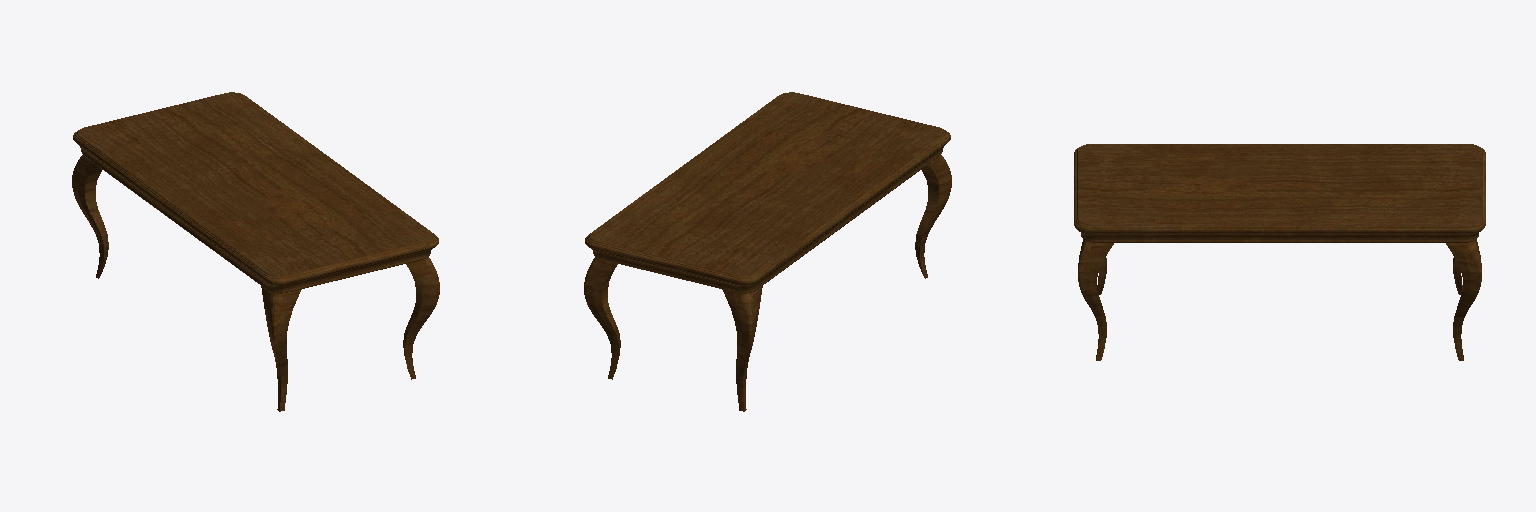
3 renders of one model, left to right at view 1: azimuth 30°, elevation 25°; view 2: azimuth 150°, elevation 25°; view 3: azimuth 270°, elevation 25°, orthographic.
Visible parts, largest first — view 1: Vintage_Furniture_Coffee_Table_OBJ:Vintage_Furniture_Coffee_Tabl; view 2: Vintage_Furniture_Coffee_Table_OBJ:Vintage_Furniture_Coffee_Tabl; view 3: Vintage_Furniture_Coffee_Table_OBJ:Vintage_Furniture_Coffee_Tabl.
Part boxes in pixels (left/top/right/bottom): Vintage_Furniture_Coffee_Table_OBJ:Vintage_Furniture_Coffee_Tabl: left=72, top=92, right=439, bottom=411; Vintage_Furniture_Coffee_Table_OBJ:Vintage_Furniture_Coffee_Tabl: left=584, top=92, right=951, bottom=411; Vintage_Furniture_Coffee_Table_OBJ:Vintage_Furniture_Coffee_Tabl: left=1074, top=144, right=1485, bottom=360.
Size of the model in its own units: 1.33 by 1.06 by 2.77.
Materials: 1 (1 with a texture image).